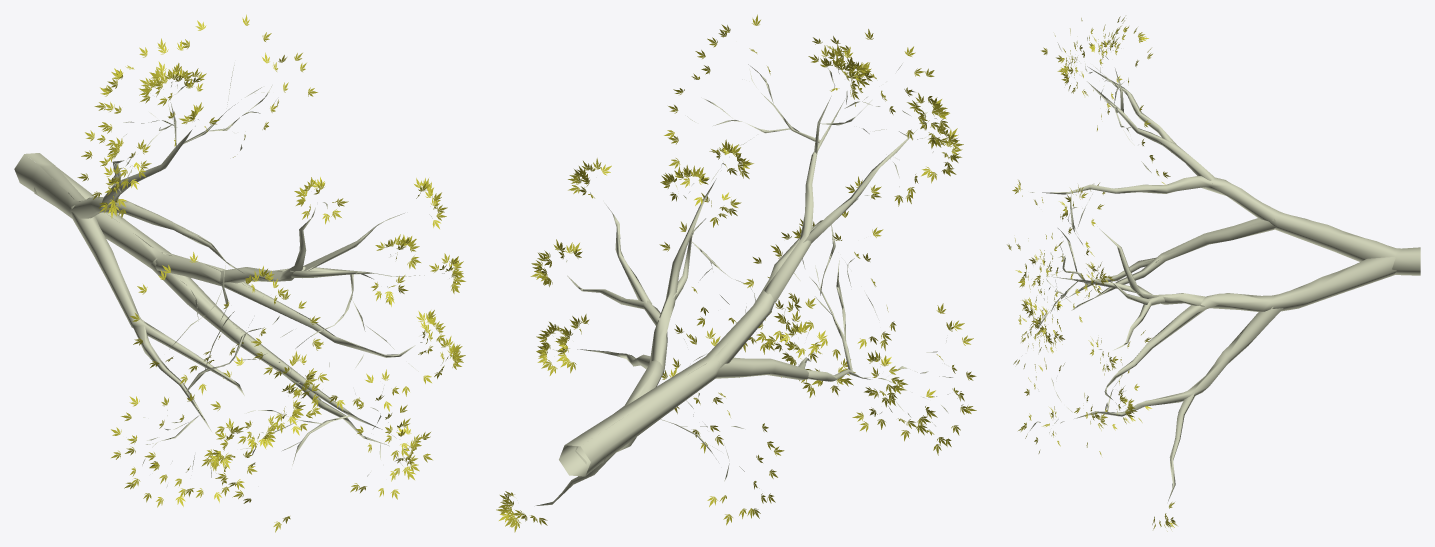
The model's file is tree1WithLeaves_medium.glb.
3 renders of one model, left to right at view 1: azimuth 30°, elevation 25°; view 2: azimuth 150°, elevation 25°; view 3: azimuth 270°, elevation 25°, orthographic. The views are drawn at different scales.
Parts seen in each view (by area): view 1: tree1WithLeaves; view 2: tree1WithLeaves; view 3: tree1WithLeaves.
Boxes of the visible parts, x1,y1,x2,y2 form: tree1WithLeaves: (14,14,465,532); tree1WithLeaves: (496,14,976,532); tree1WithLeaves: (1007,16,1420,531).
Size of the model in its own units: 1.96 by 2.51 by 2.3.
